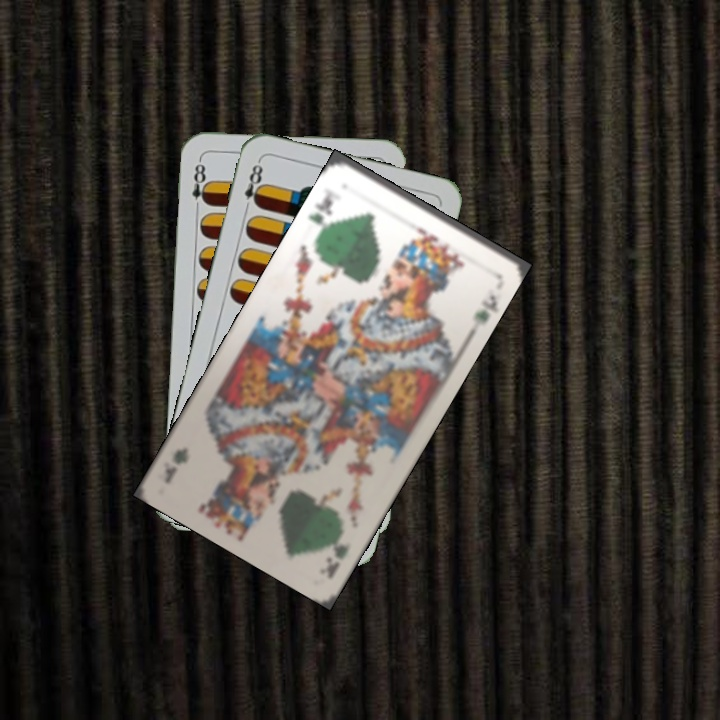E8: (240, 157, 266, 215), (188, 155, 212, 214)
GK: (304, 189, 336, 238), (316, 538, 352, 580)
